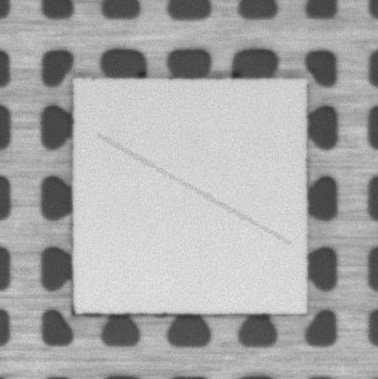DIE_CRACK: (98, 135, 289, 244)
